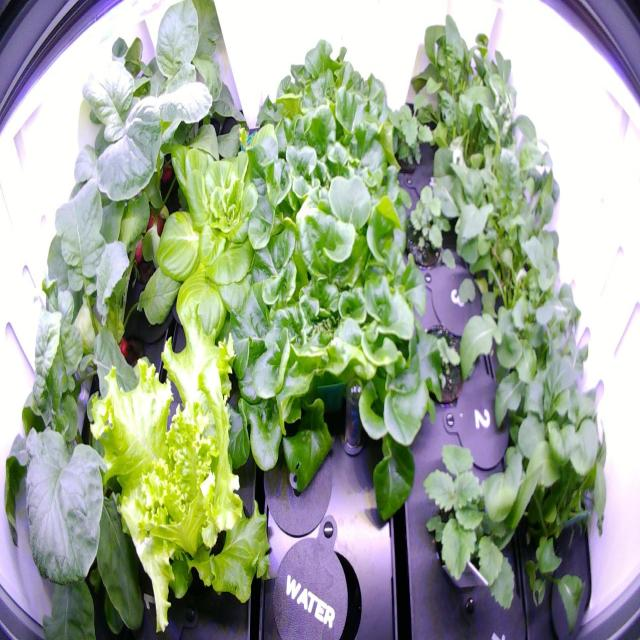young: (148, 113, 296, 352)
